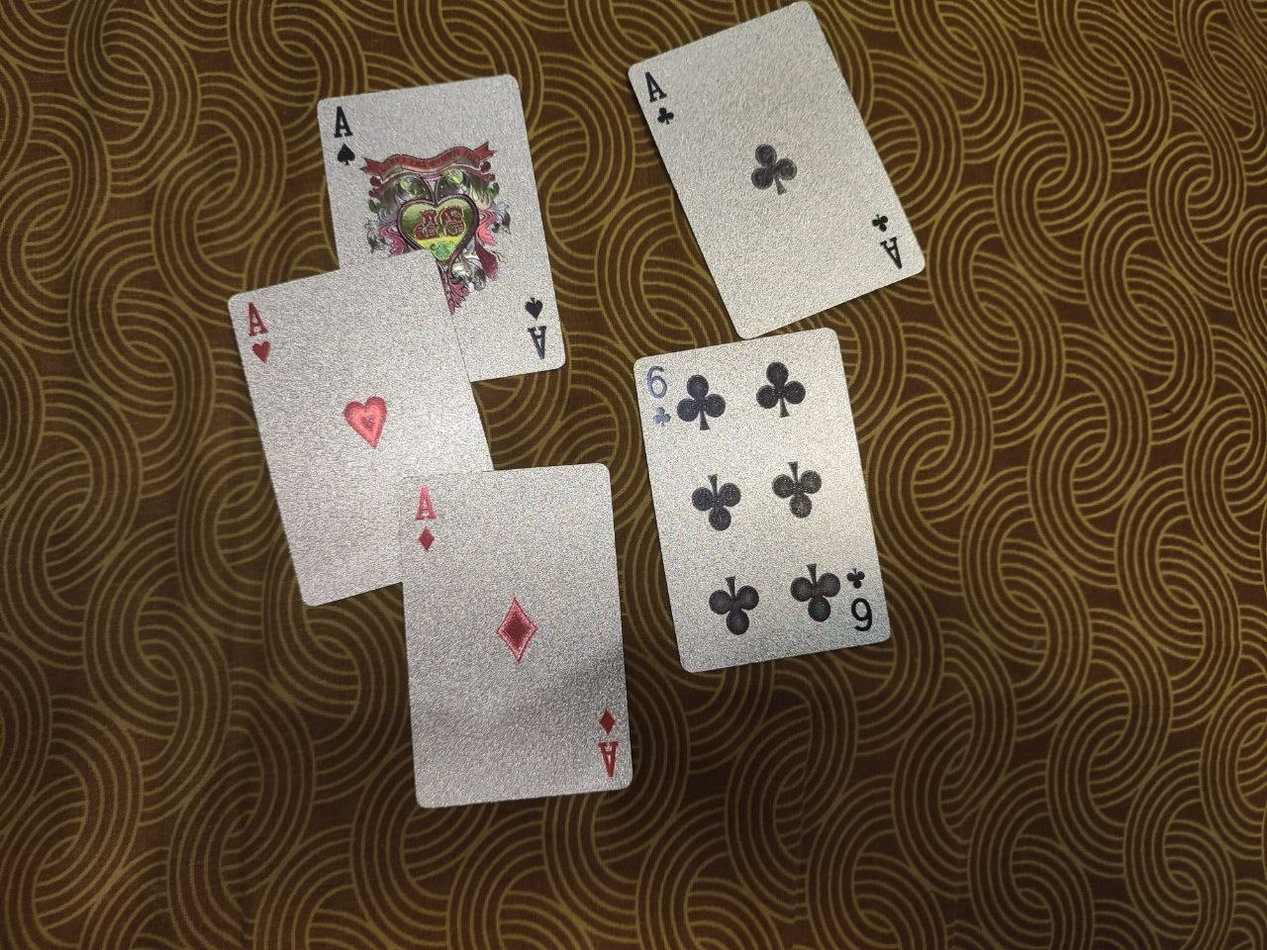6C: (632, 327, 892, 675)
AC: (629, 2, 925, 341)
AD: (400, 461, 634, 807)
AH: (226, 248, 496, 607)
AS: (315, 71, 566, 384)
